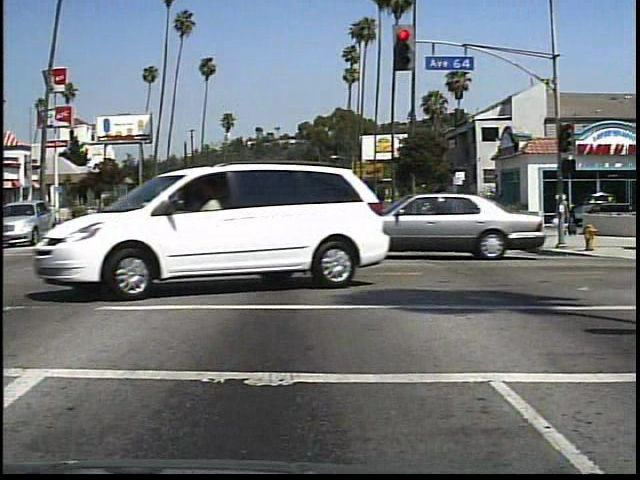person: (550, 188, 577, 238)
